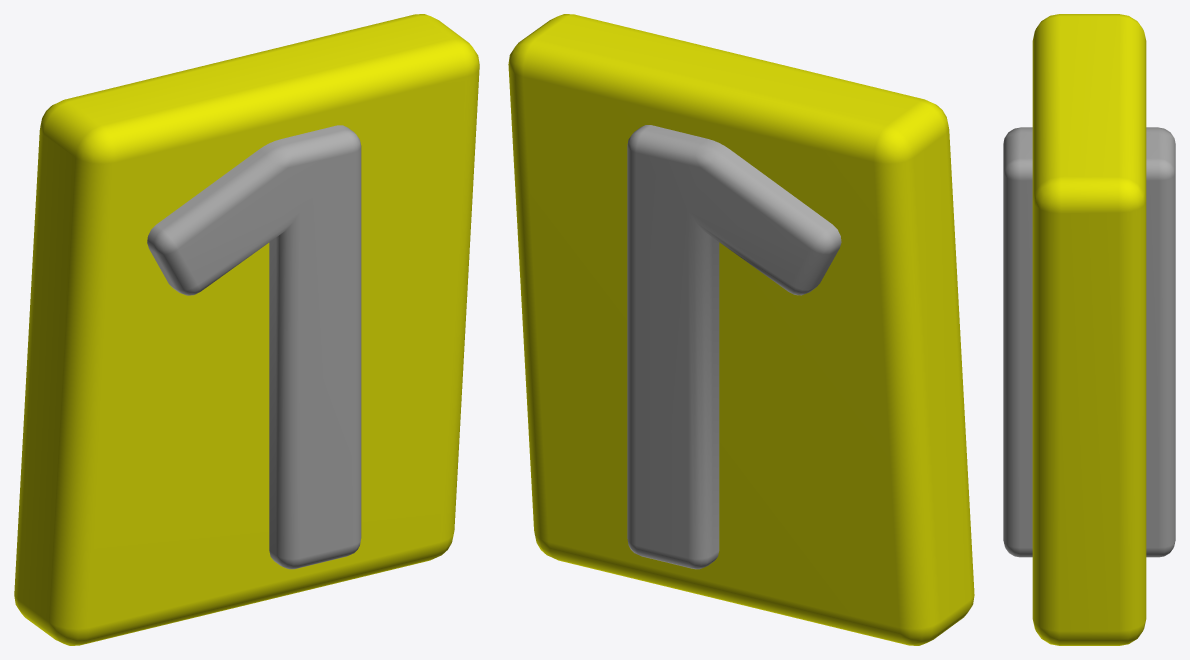
Rendered from number_01.fbx.
3 views of the same model, side by side, from view 1: azimuth 30°, elevation 25°; view 2: azimuth 150°, elevation 25°; view 3: azimuth 270°, elevation 25° (orthographic). The views are drawn at different scales.
Visible parts, largest first — view 1: number_01; view 2: number_01; view 3: number_01.
Boxes of the visible parts, left/top/right/bottom form: number_01: left=14, top=14, right=479, bottom=645; number_01: left=508, top=14, right=974, bottom=645; number_01: left=1003, top=14, right=1175, bottom=645.
Size of the model in its own units: 37.68 by 43.15 by 14.04.
